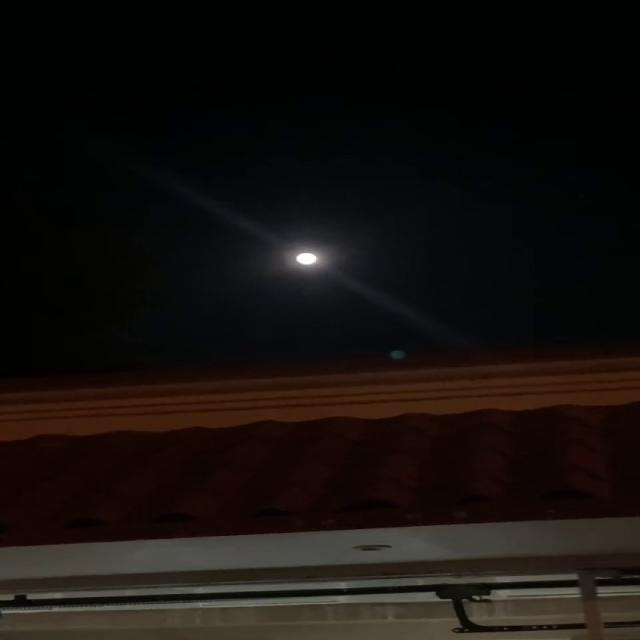moon: (286, 252, 314, 268)
